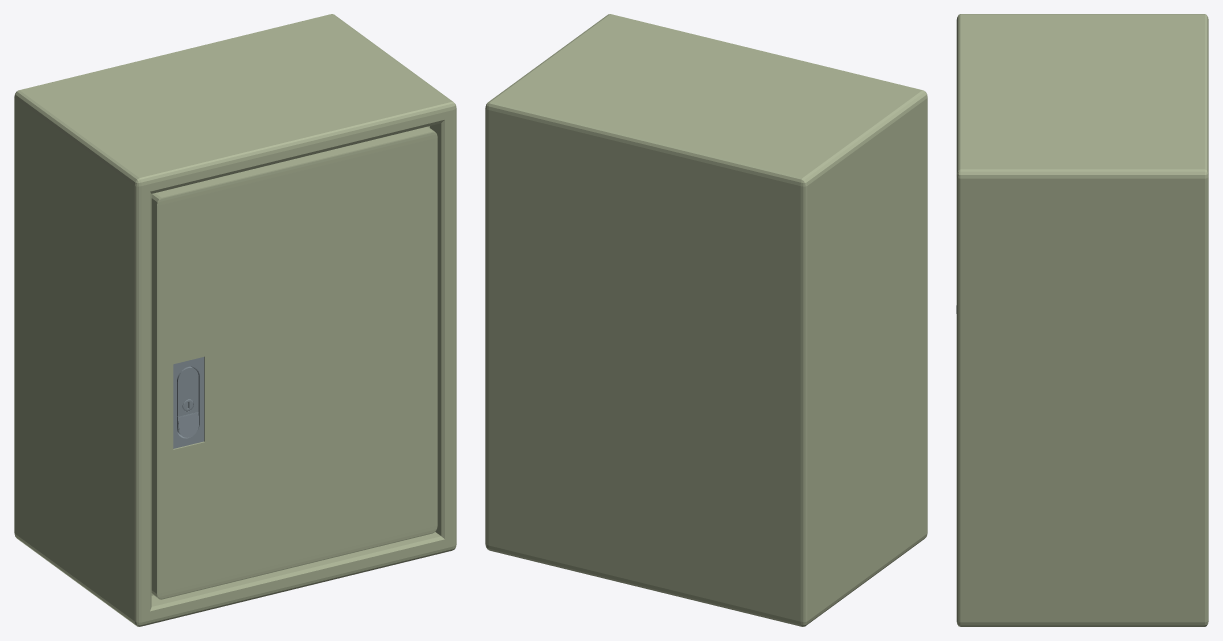
File: controlBoxL2.fbx
The picture shows the model from 3 angles, left to right: view 1: azimuth 30°, elevation 25°; view 2: azimuth 150°, elevation 25°; view 3: azimuth 270°, elevation 25°; orthographic projection.
Parts seen in each view (by area): view 1: controllBox_body, controllBox_door, cb_handleB, Sphere.005; view 2: controllBox_body; view 3: controllBox_body.
Part boxes in pixels (x1=…): controllBox_body: x1=14, y1=14, x2=456, y2=626; controllBox_door: x1=151, y1=126, x2=437, y2=599; cb_handleB: x1=173, y1=357, x2=204, y2=448; Sphere.005: x1=177, y1=366, x2=198, y2=416; controllBox_body: x1=485, y1=14, x2=927, y2=626; controllBox_body: x1=956, y1=14, x2=1208, y2=626.
Bounding box in the file's own units: 300 × 400 × 200.
